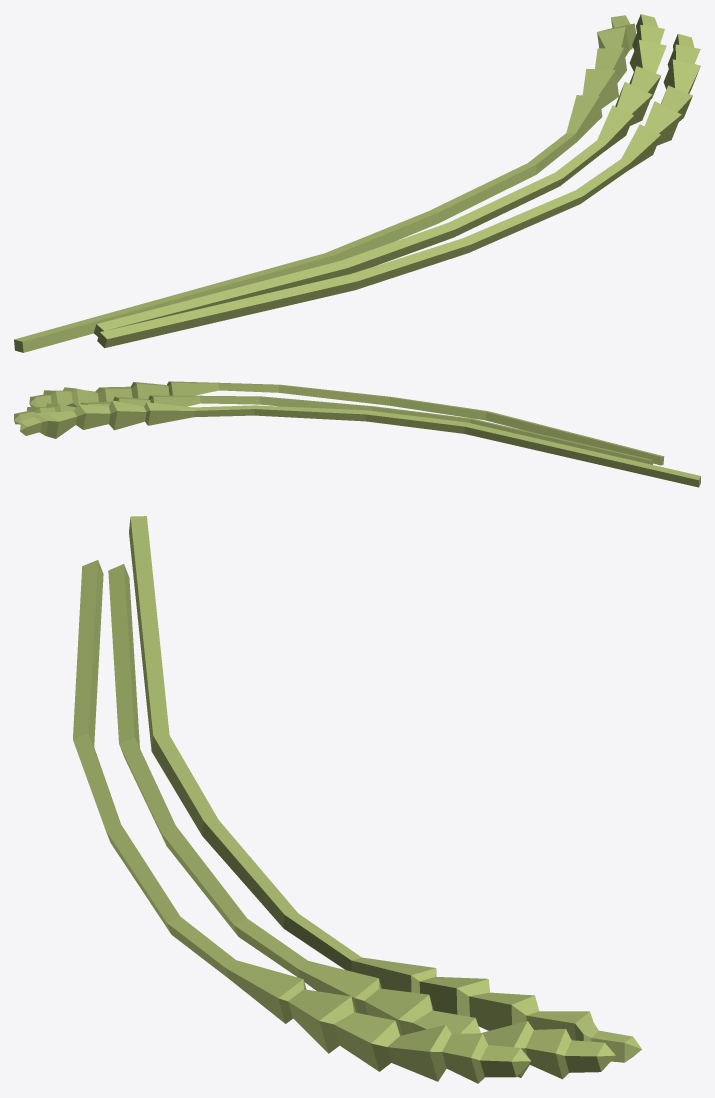
The model's file is Rice_Crop.gltf.
3 views of the same model, one above another, from view 1: azimuth 30°, elevation 25°; view 2: azimuth 150°, elevation 25°; view 3: azimuth 270°, elevation 25° (orthographic). The views are drawn at different scales.
Parts seen in each view (by area): view 1: Rice_Crop; view 2: Rice_Crop; view 3: Rice_Crop.
Boxes of the visible parts, left/top/right/bottom form: Rice_Crop: left=14, top=14, right=700, bottom=352; Rice_Crop: left=14, top=381, right=700, bottom=487; Rice_Crop: left=73, top=516, right=641, bottom=1083.
Size of the model in its own units: 0.9063 by 0.0457 by 0.3868.
